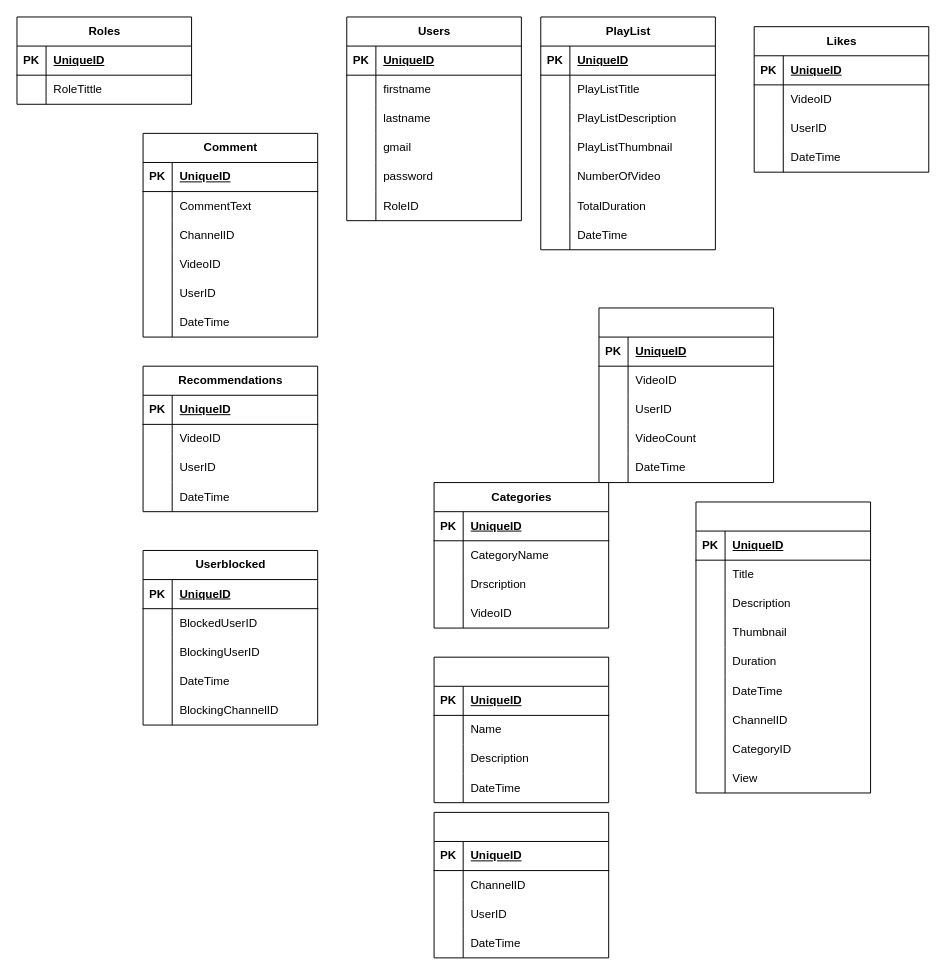
This 946x975 diagram has some shape labels left out. Each missing label, with the box of its shape:
Channels: (433, 656, 609, 803)
Follower: (433, 811, 609, 958)
History: (598, 307, 774, 483)
Videos: (695, 501, 871, 793)
